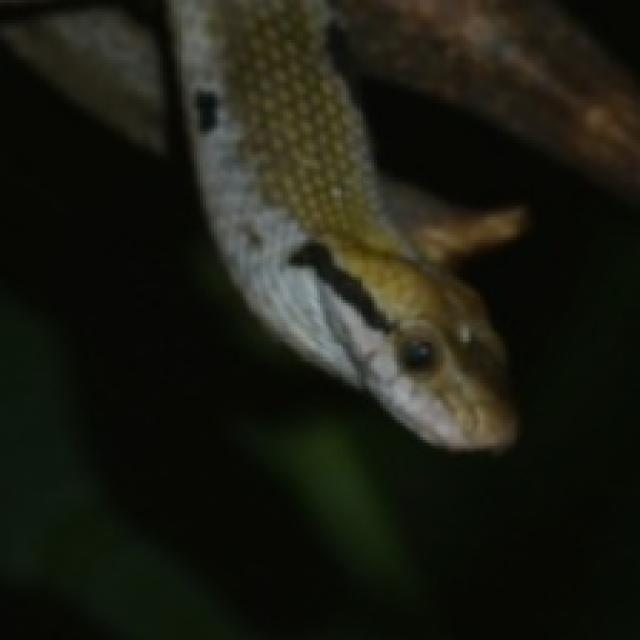dog-toothed cat snake: (166, 0, 520, 449), (169, 0, 514, 449)
